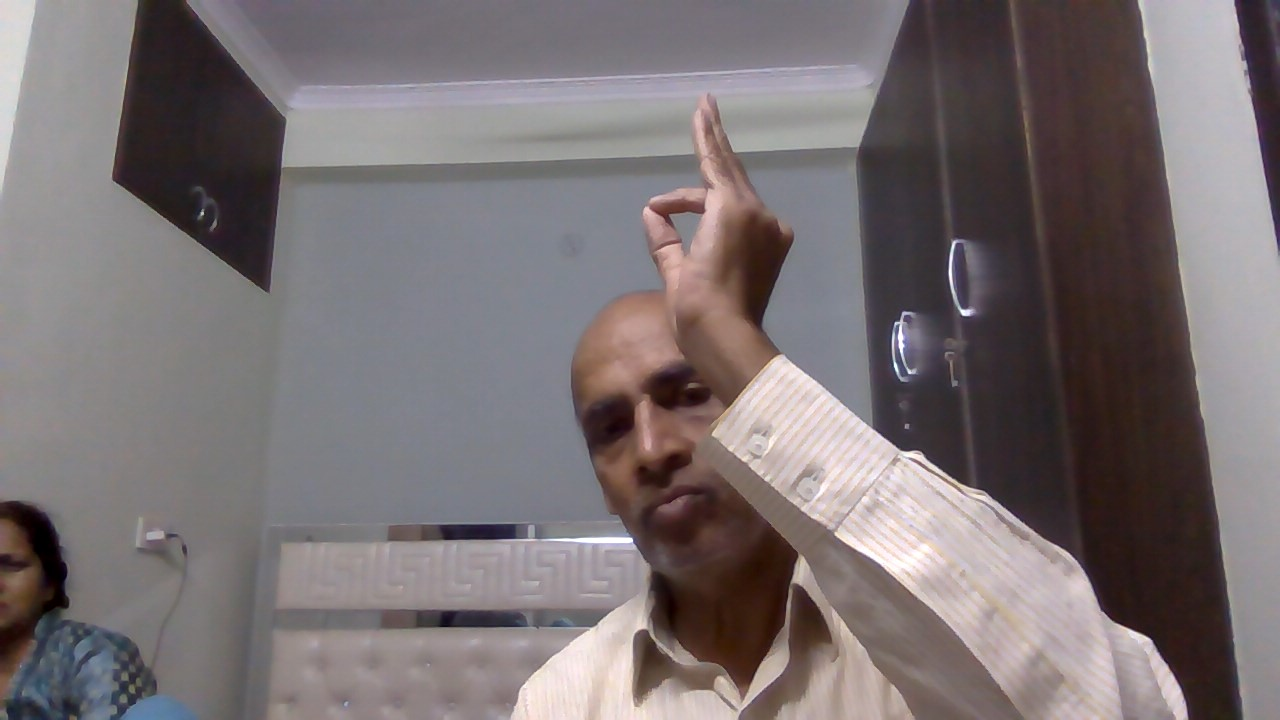Copy: (626, 88, 811, 371)
